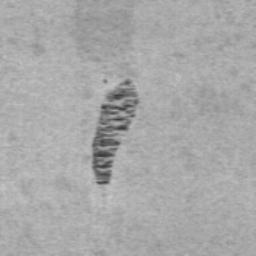Secondary rust skin: (92, 79, 139, 185)
